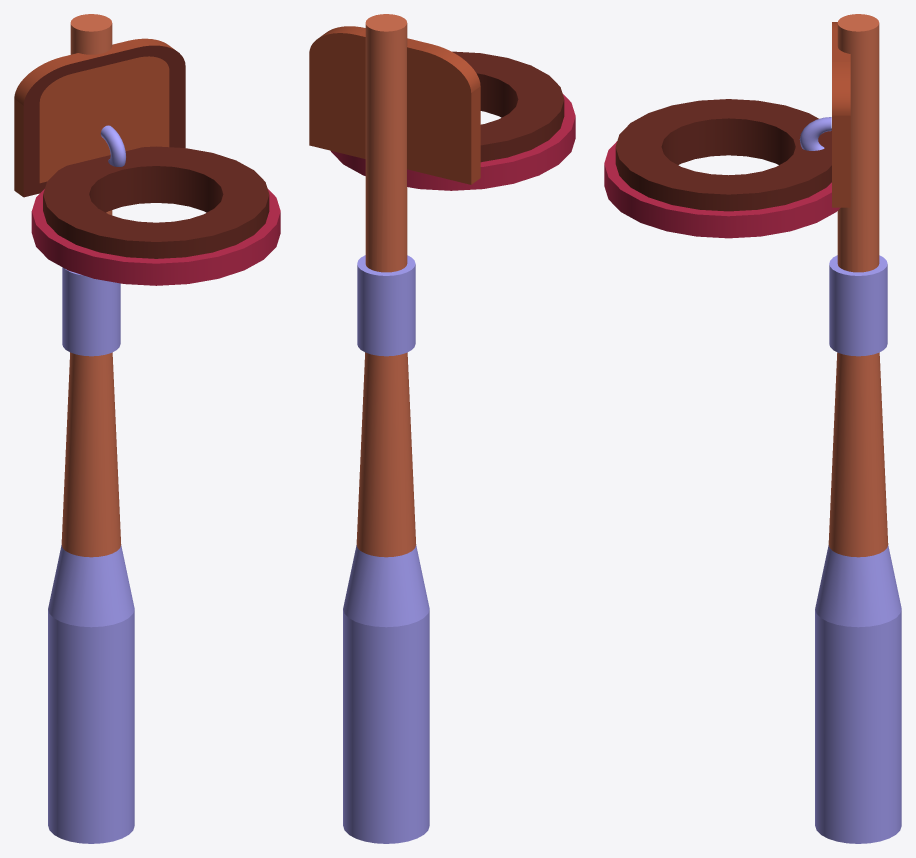
Rendered from panier.obj.
3 renders of one model, left to right at view 1: azimuth 30°, elevation 25°; view 2: azimuth 150°, elevation 25°; view 3: azimuth 270°, elevation 25°, orthographic.
Parts seen in each view (by area): view 1: mergedBlocks; view 2: mergedBlocks; view 3: mergedBlocks.
Part boxes in pixels (x1=…): mergedBlocks: x1=14, y1=14, x2=280, y2=843; mergedBlocks: x1=309, y1=14, x2=575, y2=843; mergedBlocks: x1=604, y1=14, x2=901, y2=843.
Bounding box in the file's own units: 2.53 × 9 × 3.02.
